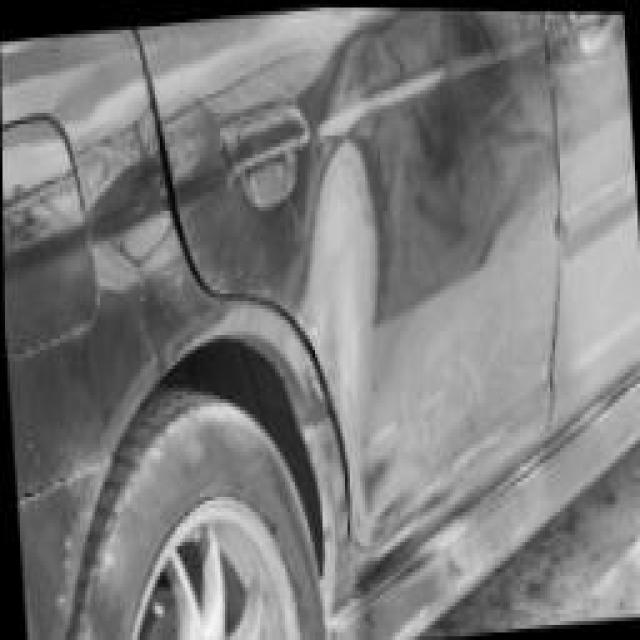Door: (200, 4, 640, 550)
Fender: (0, 64, 224, 377)
